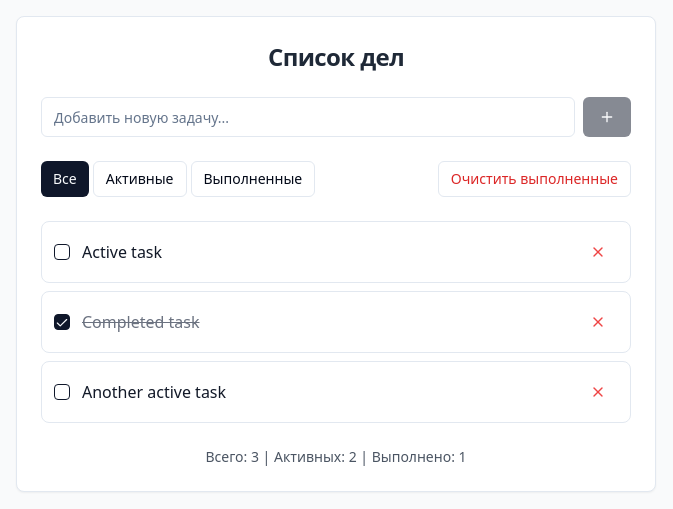
Test case: TodoApp › filters todos to show only active when active filter is selected
What coordinates should you click on to do the following:
click the button "Активные"
I would click on:
 (140, 179)
Its box is [93,161,186,197].
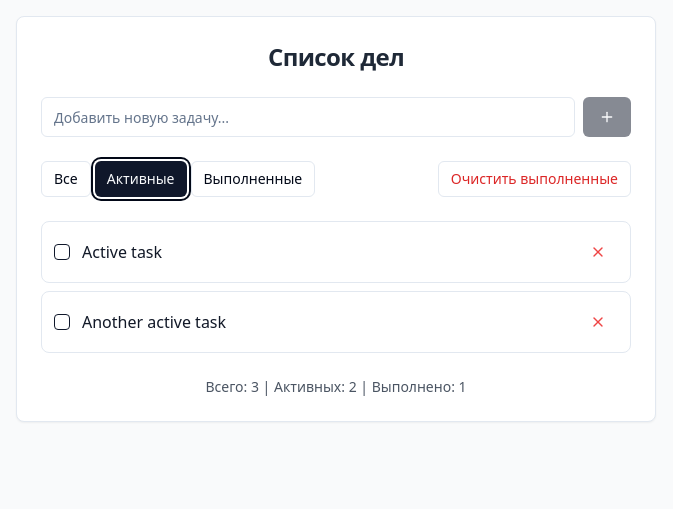
Expected: the text "Active task" is shown, [82,241,162,263]
Now the text "Completed task" is gone
